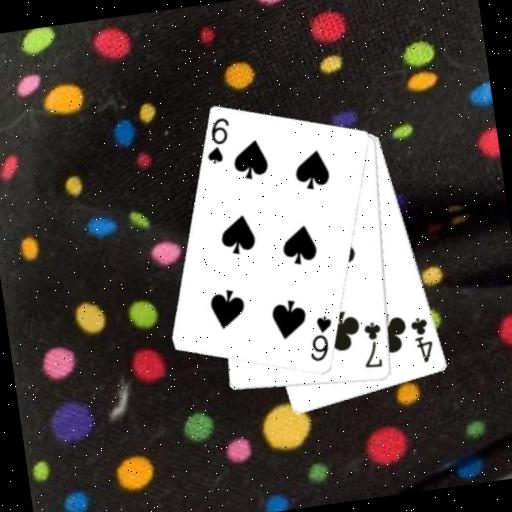4C: (407, 313, 438, 366)
6S: (302, 312, 339, 366), (200, 114, 237, 167)
7C: (357, 318, 389, 371)
